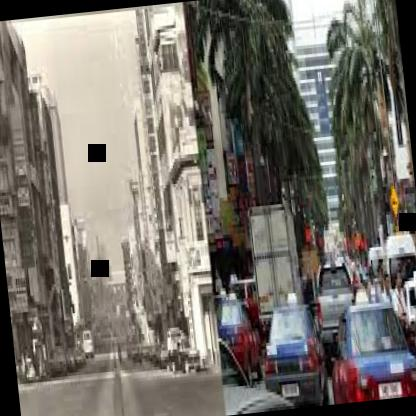car: (326, 269, 416, 403), (238, 181, 310, 340), (252, 271, 329, 411), (308, 229, 365, 348), (80, 317, 101, 367)
